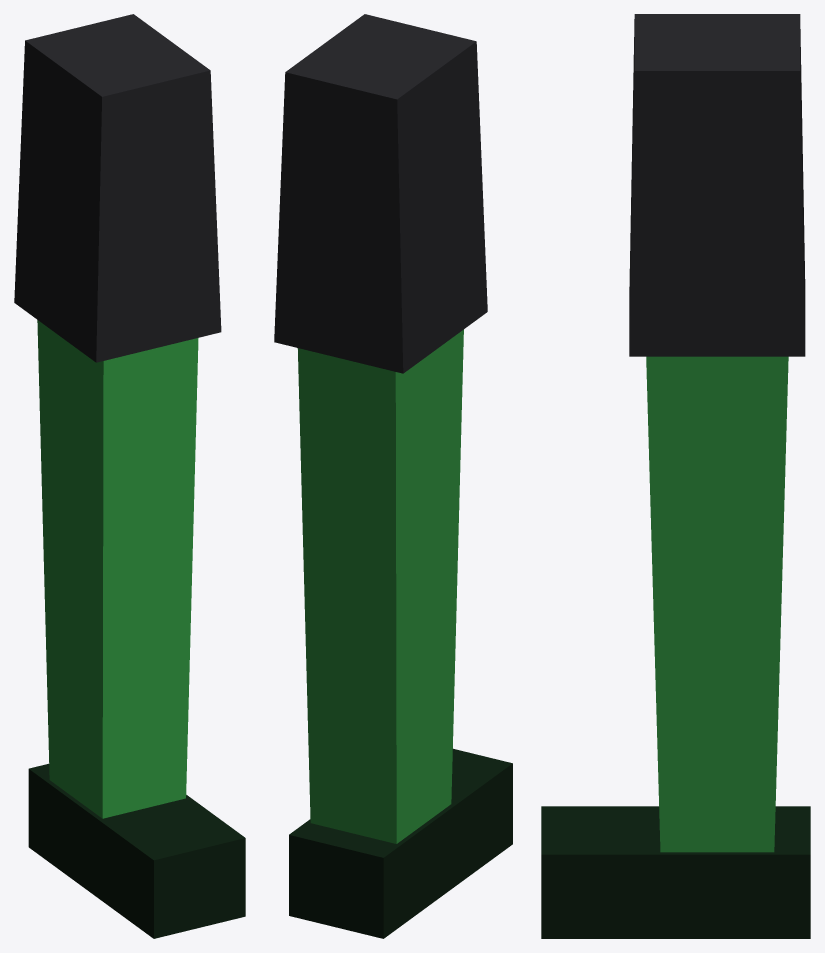
The model's file is leg_k02.glb.
3 renders of one model, left to right at view 1: azimuth 30°, elevation 25°; view 2: azimuth 150°, elevation 25°; view 3: azimuth 270°, elevation 25°, orthographic. The views are drawn at different scales.
Parts seen in each view (by area): view 1: leg_kit; view 2: leg_kit; view 3: leg_kit.
Boxes of the visible parts, left/top/right/bottom form: leg_kit: left=14, top=14, right=245, bottom=938; leg_kit: left=274, top=14, right=512, bottom=938; leg_kit: left=541, top=14, right=810, bottom=938.
Size of the model in its own units: 0.15 by 0.93 by 0.26.
